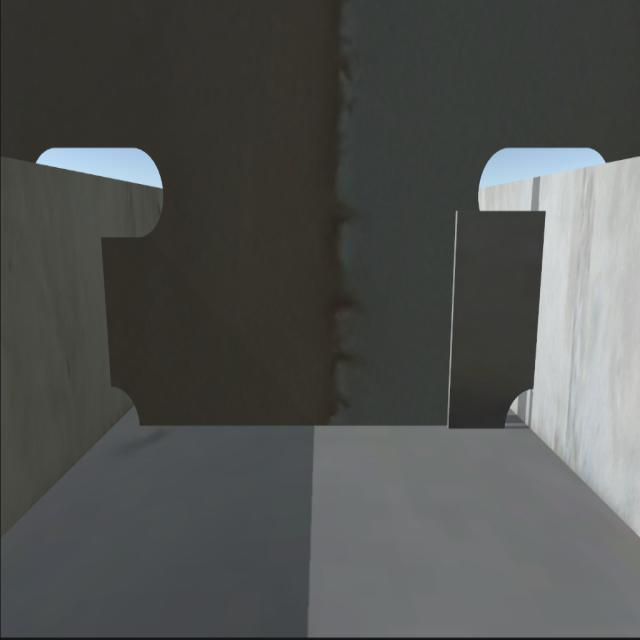fillet_hole: (503, 391, 538, 431), (111, 389, 138, 430)
fillet_yong_jeop_jang: (139, 421, 506, 433)
longi_yong_jeop_jang: (99, 241, 115, 389), (536, 215, 545, 394)
plate_CP01: (451, 209, 539, 428)
